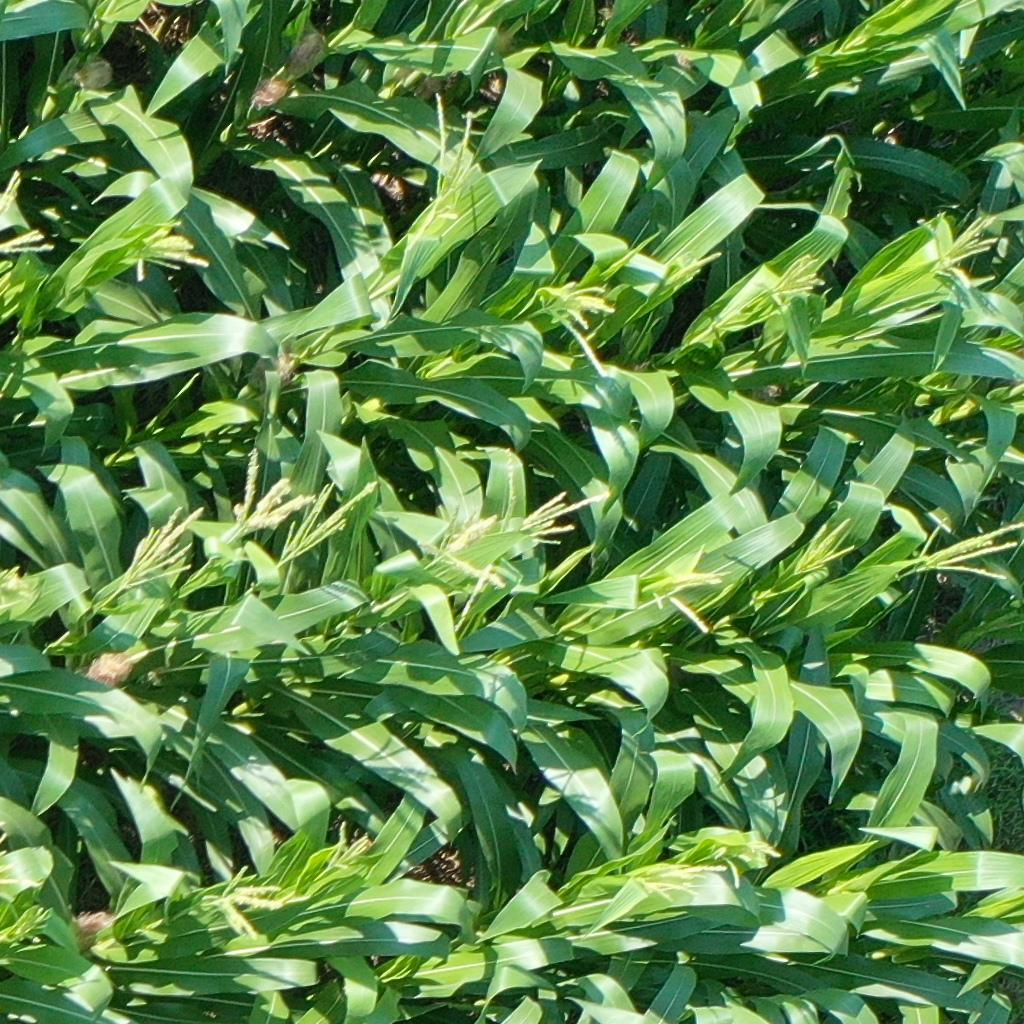Tassel: (492, 450, 612, 551), (415, 90, 488, 230), (279, 479, 380, 569), (416, 501, 510, 593), (539, 275, 612, 379), (121, 506, 208, 593), (230, 447, 315, 536), (913, 515, 1024, 582), (646, 550, 725, 636), (207, 863, 286, 940), (913, 205, 1002, 269), (129, 222, 215, 278), (1, 169, 55, 254), (708, 831, 787, 889), (791, 513, 857, 577), (636, 860, 730, 904), (771, 253, 824, 309), (661, 243, 721, 290), (326, 818, 372, 874), (1, 823, 21, 901), (17, 904, 56, 938), (1, 562, 28, 596)
